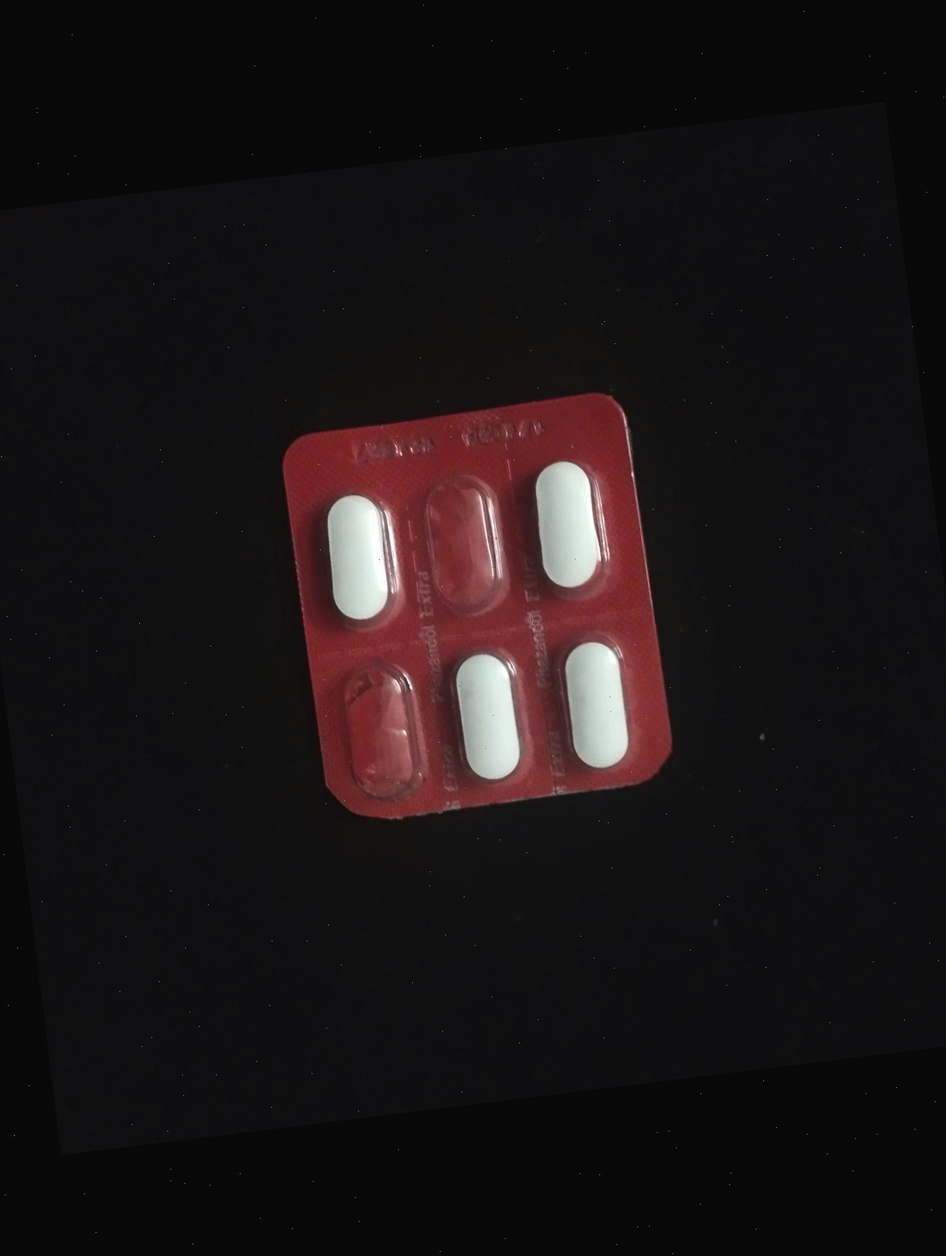Empty: (328, 661, 434, 808), (420, 475, 515, 622)
Full: (310, 482, 417, 642), (434, 640, 536, 797), (518, 450, 621, 605), (548, 635, 640, 779)
